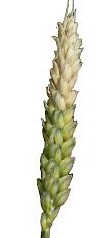Wheat scab: (33, 7, 88, 218)
